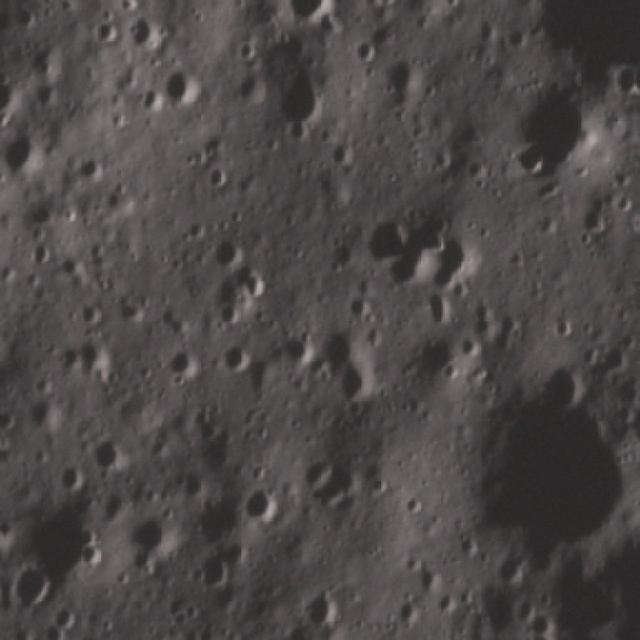crater: (485, 385, 626, 552), (529, 74, 616, 183), (252, 60, 333, 134), (9, 565, 57, 621), (168, 348, 209, 390), (162, 64, 201, 108), (248, 480, 277, 532), (1, 136, 42, 172), (208, 231, 245, 269), (287, 331, 311, 374), (0, 76, 18, 115), (266, 638, 326, 640)
